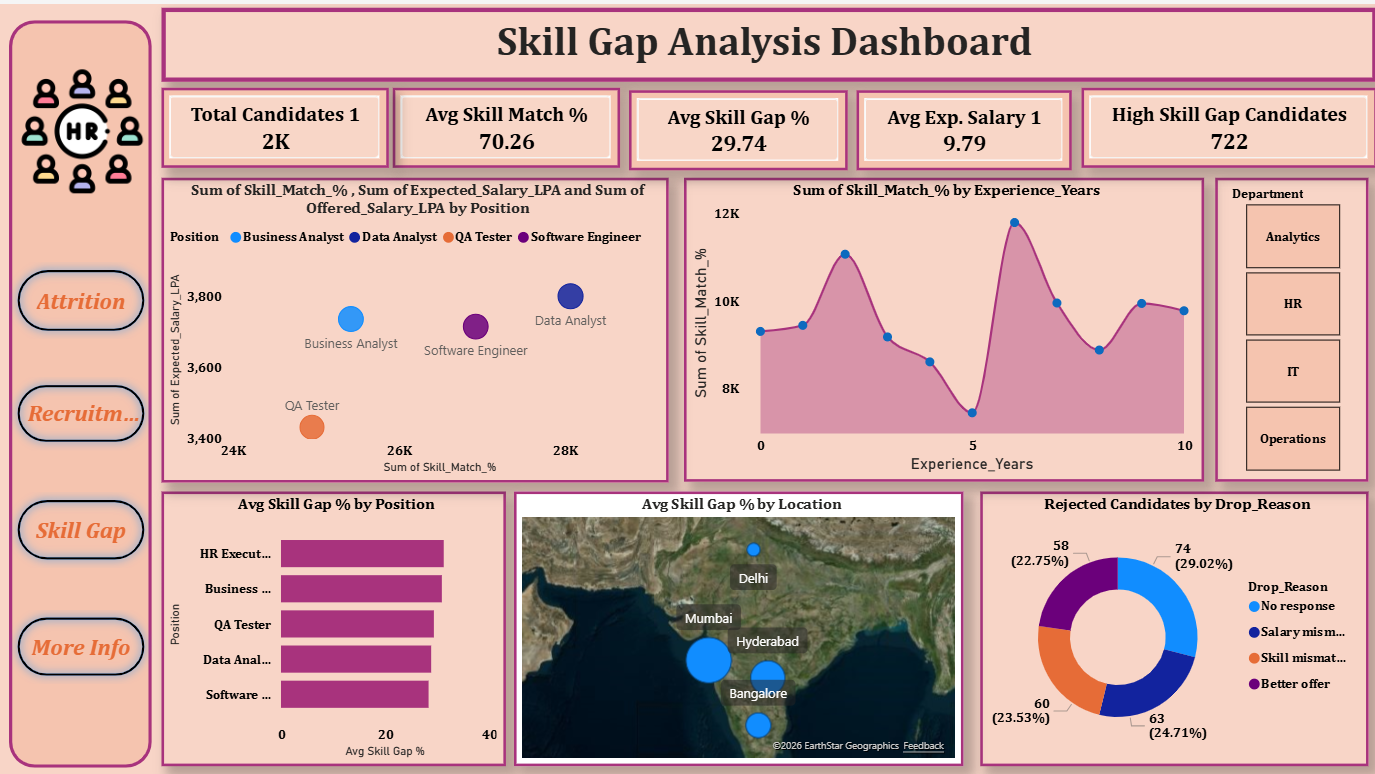

What the dashboard file says about the page in this screenshot:
{"tool":"powerbi","page":{"name":"Skill Gap Analysis Dashboard ","canvas":[1280,720],"ordinal":3},"visuals":[{"type":"shape","box":[9.8,14.7,132.5,694.5],"z":0},{"type":"textbox","box":[151.1,3.3,1128.9,68.9],"z":1000},{"type":"clusteredBarChart","fields":{"Category":["Recruitment_Data_Advanced.Position"],"Y":["Skill_Gap_Analysis.Avg Skill Gap %"]},"box":[151.1,453.3,320,255.6],"z":2000},{"type":"donutChart","fields":{"Category":["Skill_Gap_Analysis.Drop_Reason"],"Y":["Skill_Gap_Analysis.Rejected Candidates"]},"box":[911.1,453.3,361.1,255.6],"z":3000},{"type":"scatterChart","fields":{"Y":["Sum(Skill_Gap_Analysis. Expected_Salary_LPA )"],"Size":["Sum(Skill_Gap_Analysis.Offered_Salary_LPA)"],"Series":["Skill_Gap_Analysis.Position "],"X":["Sum(Skill_Gap_Analysis. Skill_Match_% )"]},"box":[151.1,161.1,471.1,283.3],"z":4000},{"type":"lineChart","fields":{"Y":["Sum(Skill_Gap_Analysis. Skill_Match_% )"],"Category":["Skill_Gap_Analysis.Experience_Years"]},"box":[636.7,161.1,483.3,282.2],"z":5000},{"type":"actionButton","box":[9.8,239.3,133.7,72.4],"z":6000},{"type":"actionButton","box":[9.8,346,133.7,68.7],"z":7000},{"type":"actionButton","box":[9.8,452.8,133.7,71.2],"z":8000},{"type":"actionButton","box":[9.8,562,133.7,69.9],"z":9000},{"type":"azureMap","fields":{"Size":["Skill_Gap_Analysis.Avg Skill Gap %"],"Category":["Recruitment_Data_Advanced.Location"]},"box":[478.9,453.3,417.8,255.6],"z":10000},{"type":"slicer","fields":{"Values":["Recruitment_Data_Advanced.Department"]},"box":[1130,161.1,142.2,282.2],"z":11000},{"type":"cardVisual","fields":{"Data":["Skill_Gap_Analysis.Avg Skill Match %"]},"box":[365.6,77.8,211.1,74.4],"z":12000},{"type":"cardVisual","fields":{"Data":["Skill_Gap_Analysis.Avg Skill Gap %"]},"box":[585.6,80,203.3,74.4],"z":13000},{"type":"cardVisual","fields":{"Data":["Skill_Gap_Analysis.Avg Expected Salary 1"]},"box":[796.7,80,200,74.4],"z":14000},{"type":"cardVisual","fields":{"Data":["Skill_Gap_Analysis.High Skill Gap Count"]},"box":[1005.6,77.8,274.4,74.4],"z":15000},{"type":"cardVisual","fields":{"Data":["Skill_Gap_Analysis.Total Candidates 1"]},"box":[151.1,77.8,211.1,74.4],"z":16000},{"type":"image","box":[19.6,14.7,115.3,206.1],"z":17000}]}

Visuals, with their boxes in screenshot pixels (x1, y1, x2, y2), scaled from the page's 1280x720 canvas onto the 1375x774 screenshot:
shape: bbox(11, 16, 153, 762)
textbox: bbox(162, 4, 1374, 78)
clusteredBarChart - Recruitment_Data_Advanced.Position x Skill_Gap_Analysis.Avg Skill Gap %: bbox(162, 487, 506, 762)
donutChart - Skill_Gap_Analysis.Drop_Reason x Skill_Gap_Analysis.Rejected Candidates: bbox(979, 487, 1367, 762)
scatterChart - Sum(Skill_Gap_Analysis. Expected_Salary_LPA ) x Sum(Skill_Gap_Analysis.Offered_Salary_LPA): bbox(162, 173, 668, 478)
lineChart - Sum(Skill_Gap_Analysis. Skill_Match_% ) x Skill_Gap_Analysis.Experience_Years: bbox(684, 173, 1203, 477)
actionButton: bbox(11, 257, 154, 335)
actionButton: bbox(11, 372, 154, 446)
actionButton: bbox(11, 487, 154, 563)
actionButton: bbox(11, 604, 154, 679)
azureMap - Skill_Gap_Analysis.Avg Skill Gap % x Recruitment_Data_Advanced.Location: bbox(514, 487, 963, 762)
slicer - Recruitment_Data_Advanced.Department: bbox(1214, 173, 1367, 477)
cardVisual - Skill_Gap_Analysis.Avg Skill Match %: bbox(393, 84, 620, 164)
cardVisual - Skill_Gap_Analysis.Avg Skill Gap %: bbox(629, 86, 847, 166)
cardVisual - Skill_Gap_Analysis.Avg Expected Salary 1: bbox(856, 86, 1071, 166)
cardVisual - Skill_Gap_Analysis.High Skill Gap Count: bbox(1080, 84, 1374, 164)
cardVisual - Skill_Gap_Analysis.Total Candidates 1: bbox(162, 84, 389, 164)
image: bbox(21, 16, 145, 237)
